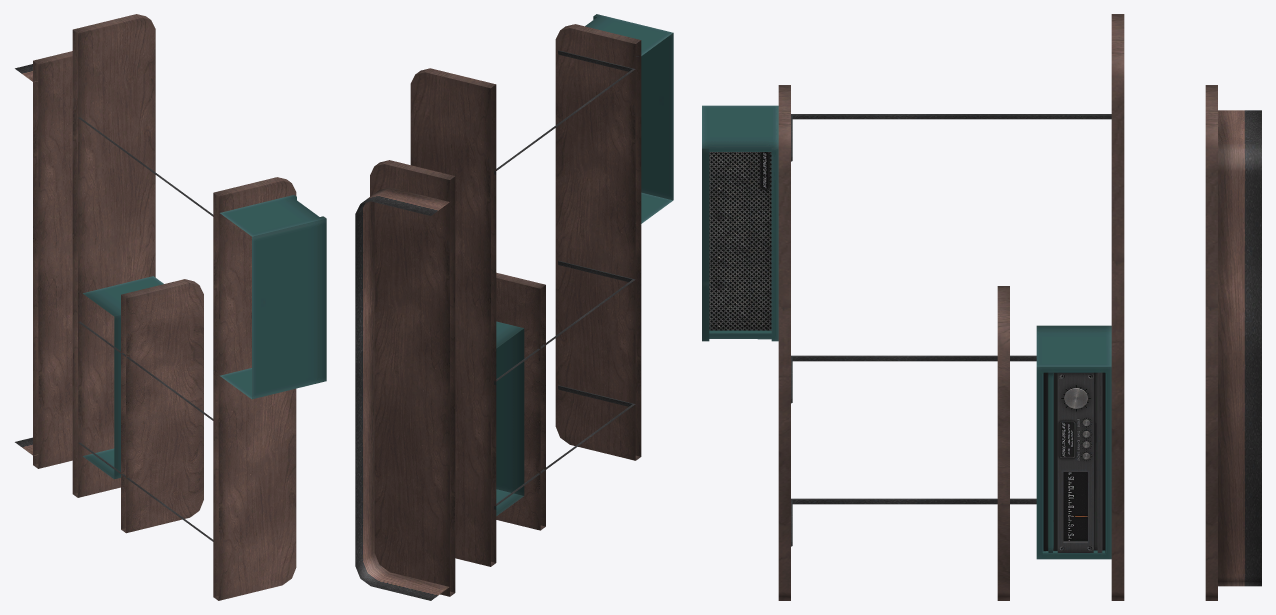
The model's file is nt_2020_hifi_shelf_LOD1.obj.
The picture shows the model from 3 angles, left to right: view 1: azimuth 30°, elevation 25°; view 2: azimuth 150°, elevation 25°; view 3: azimuth 270°, elevation 25°; orthographic projection. The views are drawn at different scales.
Visible parts, largest first — view 1: mtl_nt_2020_hifi_shelf; view 2: mtl_nt_2020_hifi_shelf; view 3: mtl_nt_2020_hifi_shelf.
Boxes of the visible parts, <box> form: mtl_nt_2020_hifi_shelf: <box>15,14,326,600</box>; mtl_nt_2020_hifi_shelf: <box>355,14,673,600</box>; mtl_nt_2020_hifi_shelf: <box>702,14,1261,600</box>.
Bounding box in the file's own units: 43.18 × 246 × 227.
